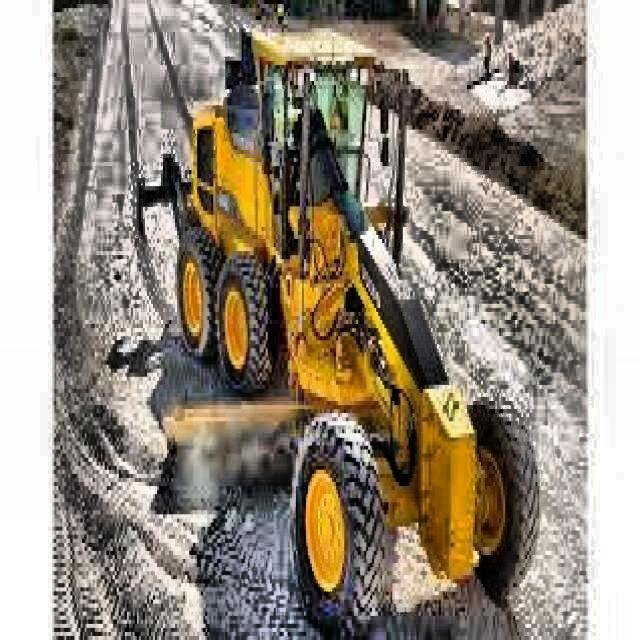bull_dozer/loader/grader: (135, 2, 544, 640)
person: (294, 80, 334, 174)
